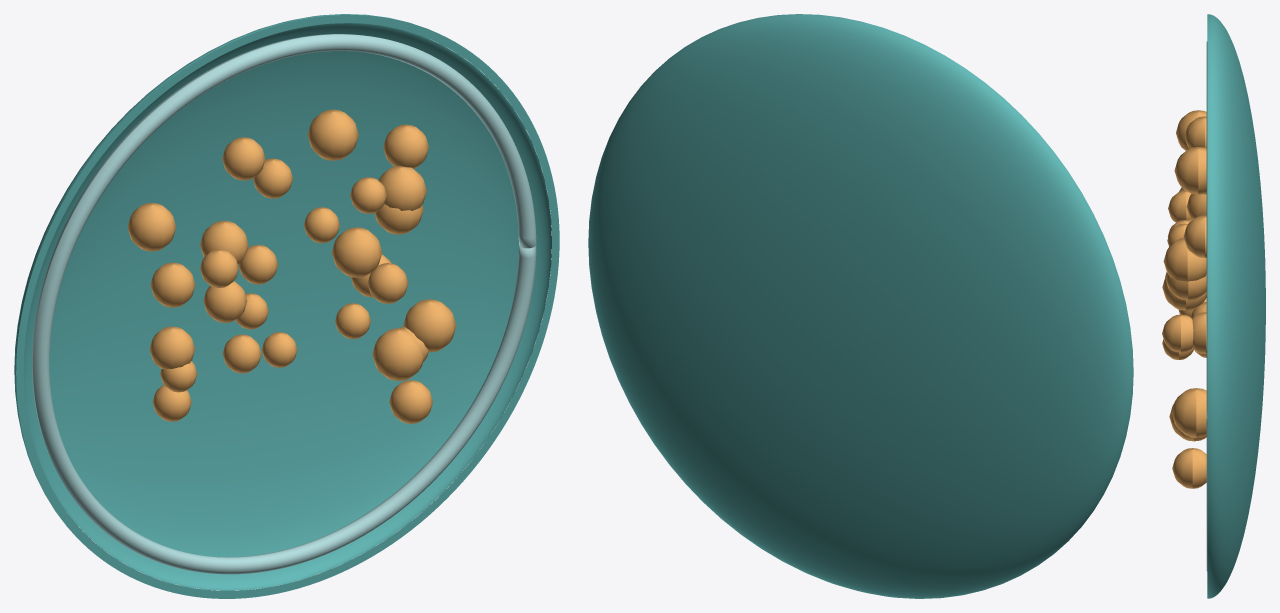
File: bio3d2-platelet.glb
3 renders of one model, left to right at view 1: azimuth 30°, elevation 25°; view 2: azimuth 150°, elevation 25°; view 3: azimuth 270°, elevation 25°, orthographic. The views are drawn at different scales.
Parts seen in each view (by area): view 1: Resting discoid platelet cutaway, Illustrative cytoplasmic granules, Peripheral marginal band (schematic bundle); view 2: Resting discoid platelet cutaway; view 3: Resting discoid platelet cutaway, Illustrative cytoplasmic granules, Peripheral marginal band (schematic bundle).
Boxes of the visible parts, x1,y1,x2,y2 form: Resting discoid platelet cutaway: [14, 14, 559, 598]; Illustrative cytoplasmic granules: [127, 109, 456, 423]; Peripheral marginal band (schematic bundle): [32, 34, 536, 574]; Resting discoid platelet cutaway: [588, 14, 1133, 598]; Resting discoid platelet cutaway: [1207, 14, 1265, 598]; Illustrative cytoplasmic granules: [1162, 110, 1206, 488]; Peripheral marginal band (schematic bundle): [1206, 41, 1207, 571].
Bounding box in the file's own units: 2.5 × 2.5 × 0.4444.
